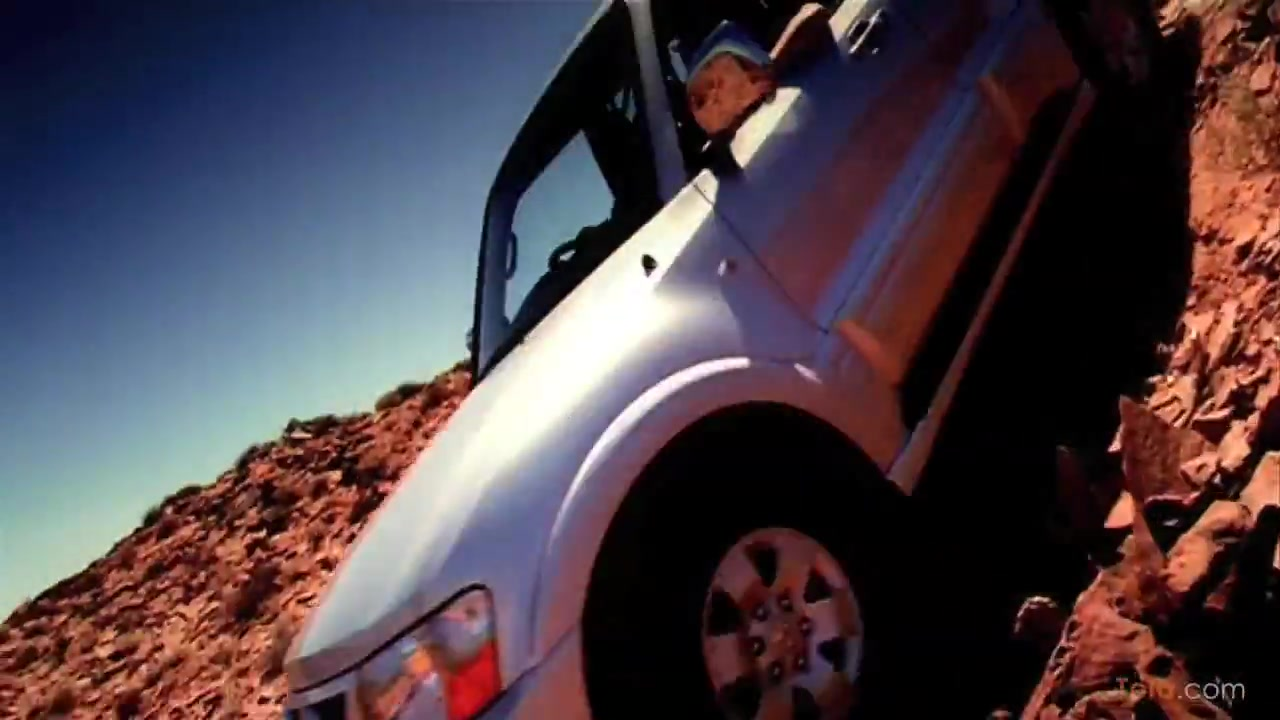car: (278, 1, 1169, 720)
